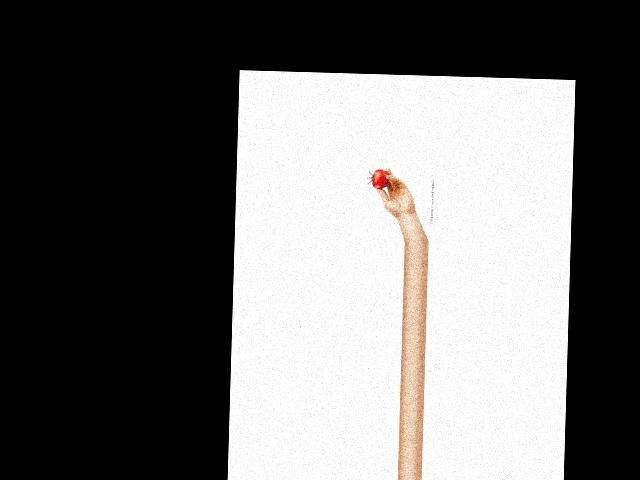tomato: (372, 169, 389, 189)
